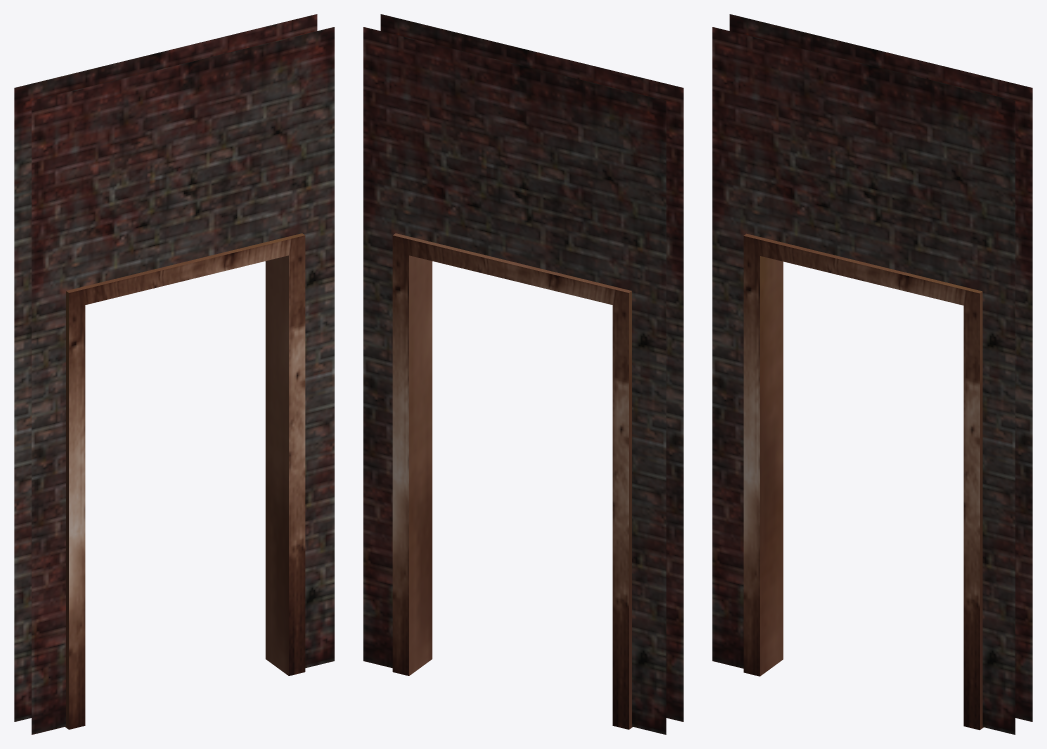
The model's file is wall_brick_doorway_1.obj.
3 renders of one model, left to right at view 1: azimuth 30°, elevation 25°; view 2: azimuth 150°, elevation 25°; view 3: azimuth 330°, elevation 25°, orthographic.
Visible parts, largest first — view 1: Doorframe.001; view 2: Doorframe.001; view 3: Doorframe.001.
Part boxes in pixels (bbox=[...]): Doorframe.001: bbox=[14, 14, 334, 734]; Doorframe.001: bbox=[363, 14, 683, 734]; Doorframe.001: bbox=[712, 14, 1032, 734].
Bounding box in the file's own units: 1.5 × 3 × 0.2.
2 materials, 2 textured.
